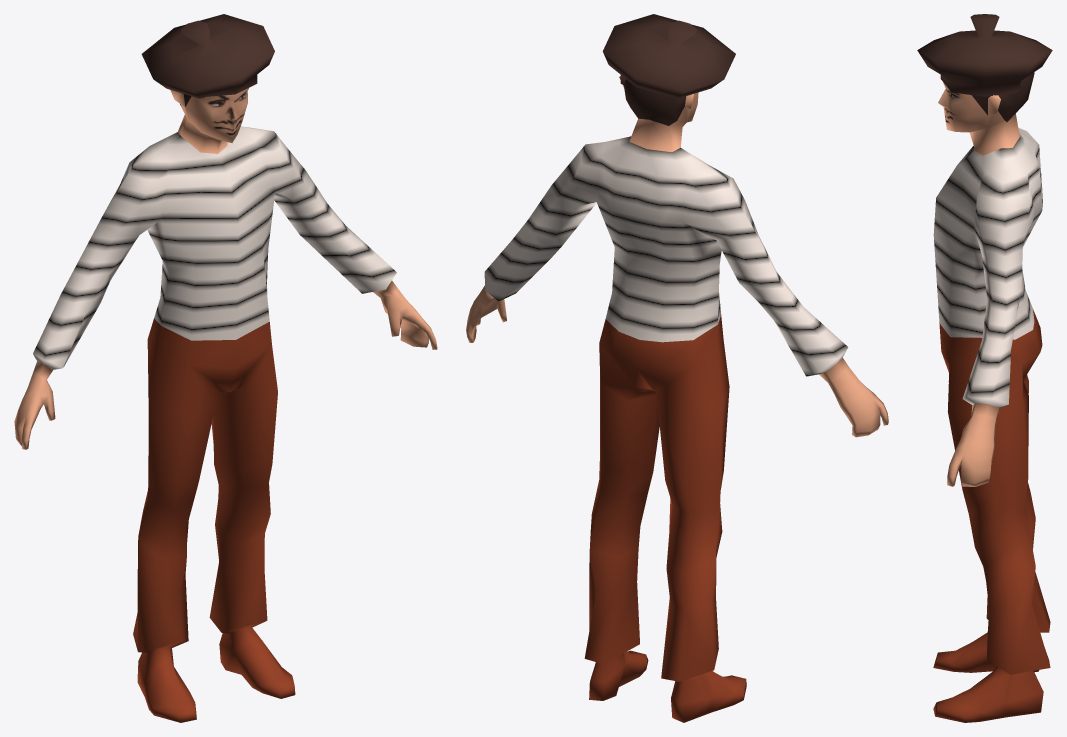
File: CharFrenchman.fbx
The picture shows the model from 3 angles, left to right: view 1: azimuth 30°, elevation 25°; view 2: azimuth 150°, elevation 25°; view 3: azimuth 270°, elevation 25°; orthographic projection.
Visible parts, largest first — view 1: CharFrenchman; view 2: CharFrenchman; view 3: CharFrenchman.
Part boxes in pixels (box(x1,y1,x2,y2)): CharFrenchman: box(14, 14, 437, 722); CharFrenchman: box(466, 14, 888, 722); CharFrenchman: box(917, 14, 1052, 722).
Size of the model in its own units: 120 by 185 by 34.1.
